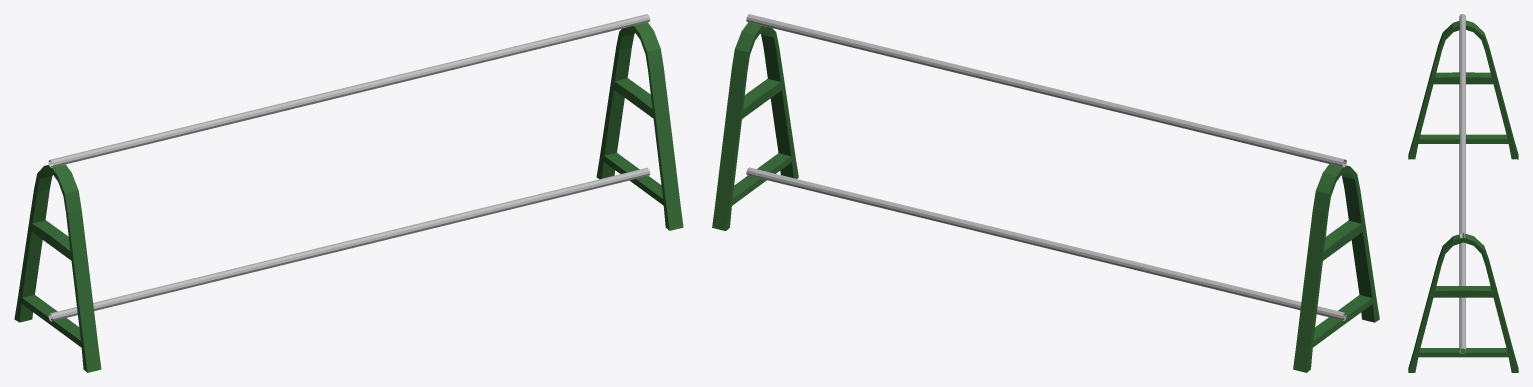
File: barricade_A.glb
3 renders of one model, left to right at view 1: azimuth 30°, elevation 25°; view 2: azimuth 150°, elevation 25°; view 3: azimuth 270°, elevation 25°, orthographic. The views are drawn at different scales.
Parts seen in each view (by area): view 1: Circle.010; view 2: Circle.010; view 3: Circle.010.
Boxes of the visible parts, x1=… form: Circle.010: x1=14, y1=14, x2=683, y2=372; Circle.010: x1=712, y1=14, x2=1379, y2=372; Circle.010: x1=1408, y1=14, x2=1518, y2=372.
Bounding box in the file's own units: 3.12 × 0.93 × 0.6621.
